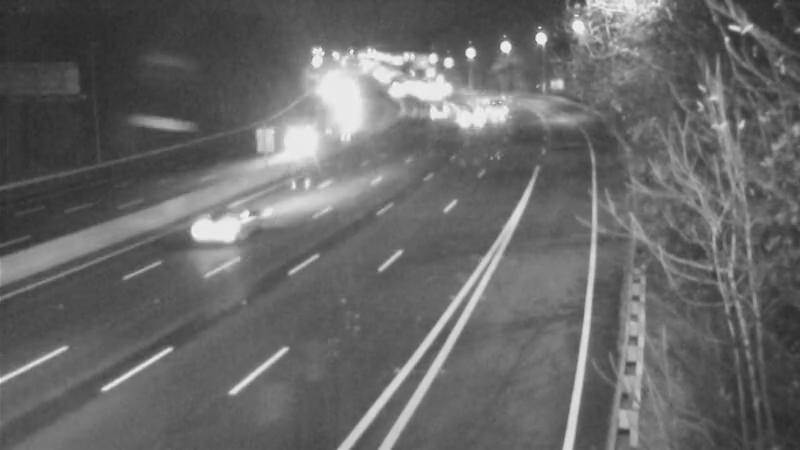vehicle: (170, 189, 250, 269), (472, 75, 522, 125), (462, 86, 512, 136), (414, 86, 464, 136), (444, 89, 494, 139), (279, 114, 329, 164), (321, 87, 371, 137)
